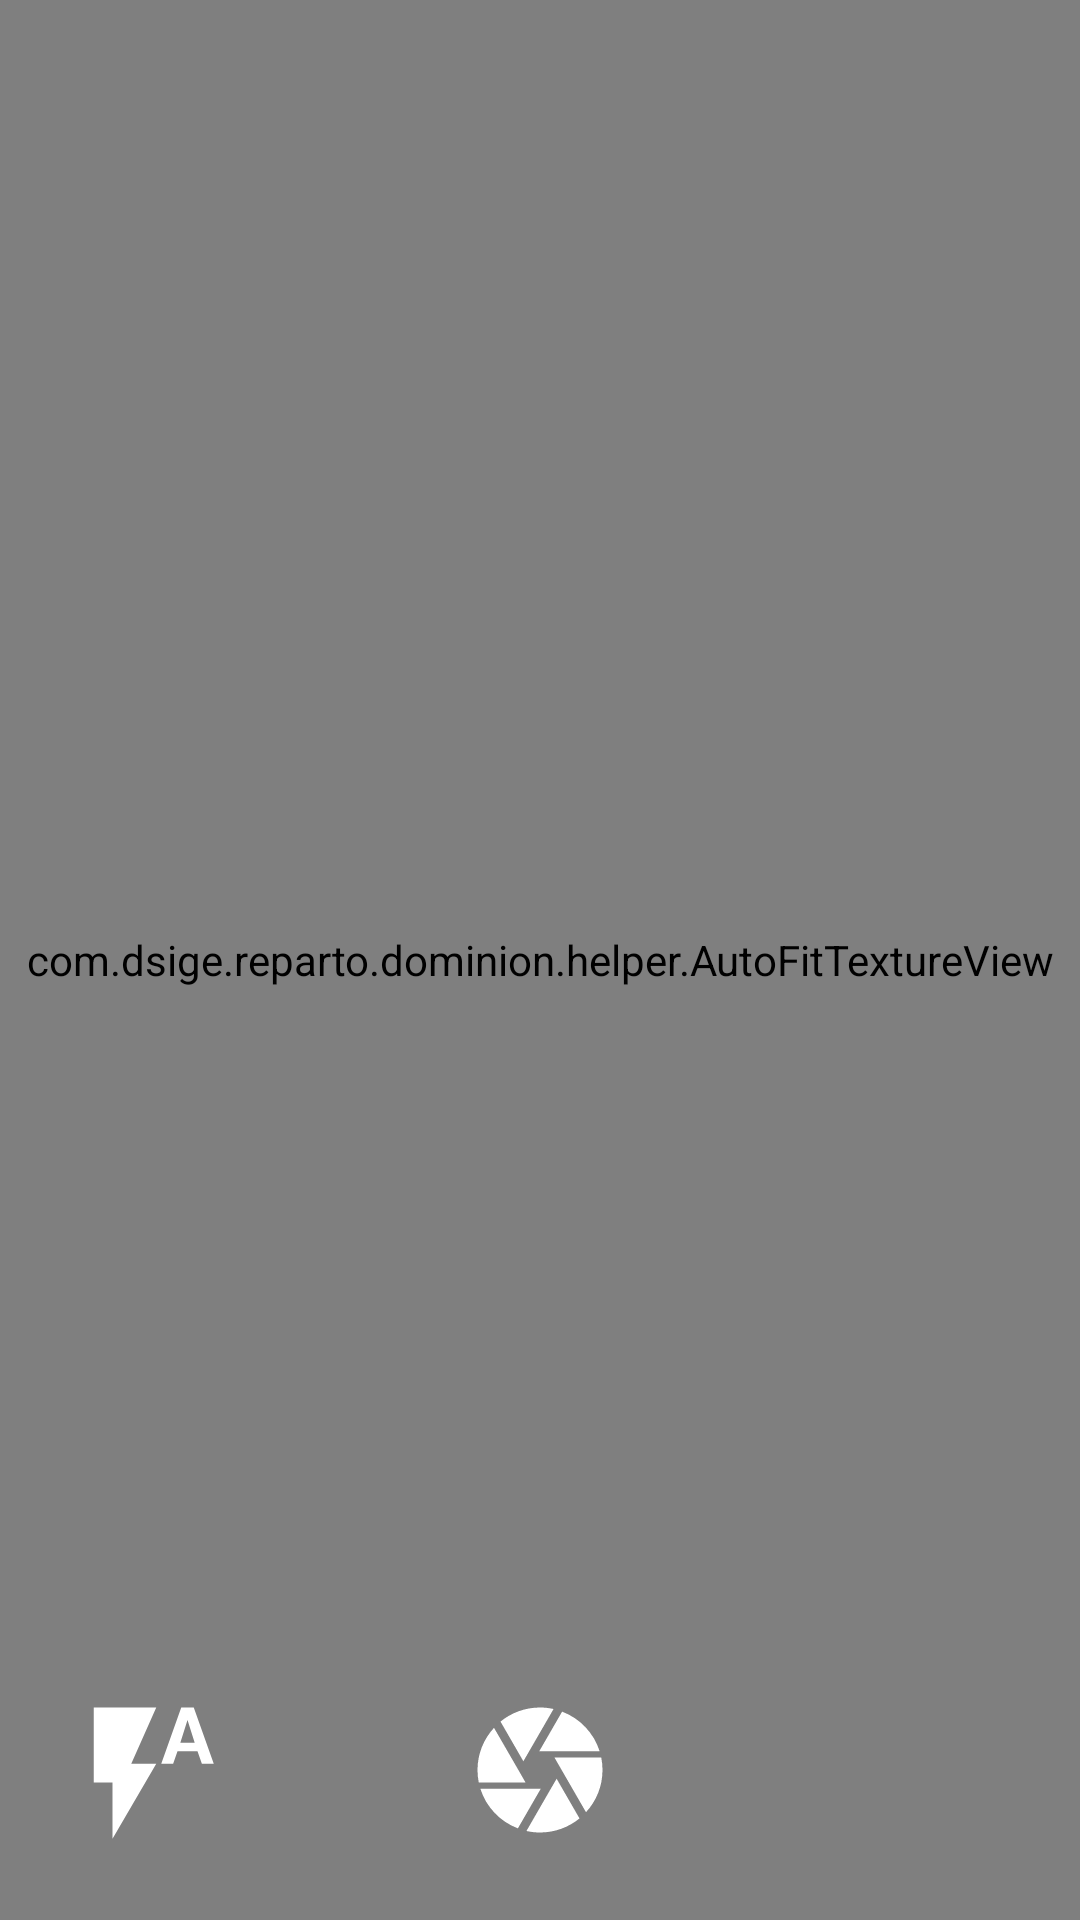

Locate icon controls on the screen. Image size 1080w x 1920h, boxes as (left=x1, top=y1, right=x2, bottom=y2).
camera lens: (left=477, top=1707, right=603, bottom=1833)
flash auto: (left=93, top=1707, right=214, bottom=1838)
